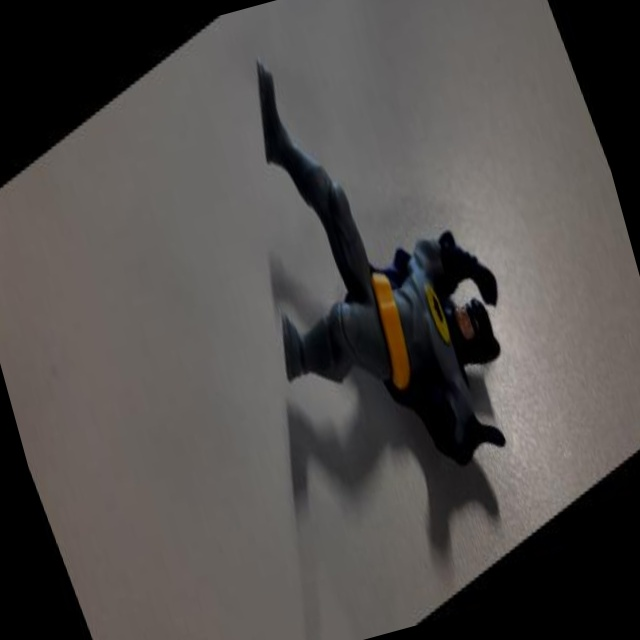Batman: (163, 0, 572, 581)
